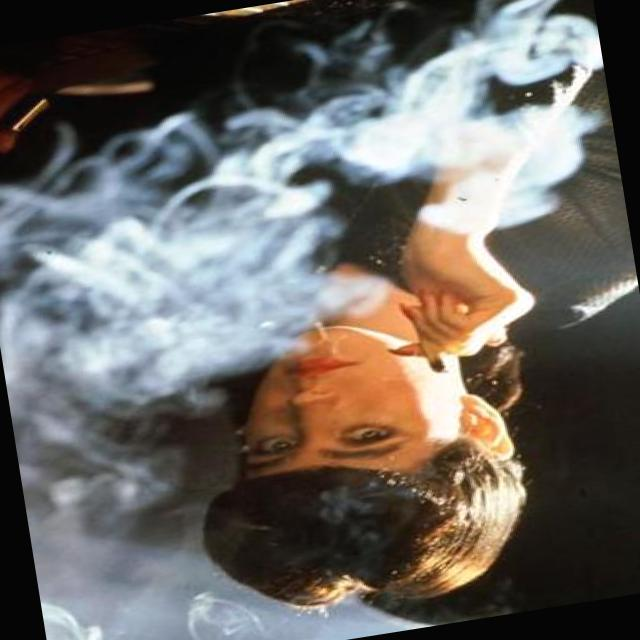cigarette: (384, 315, 484, 392)
